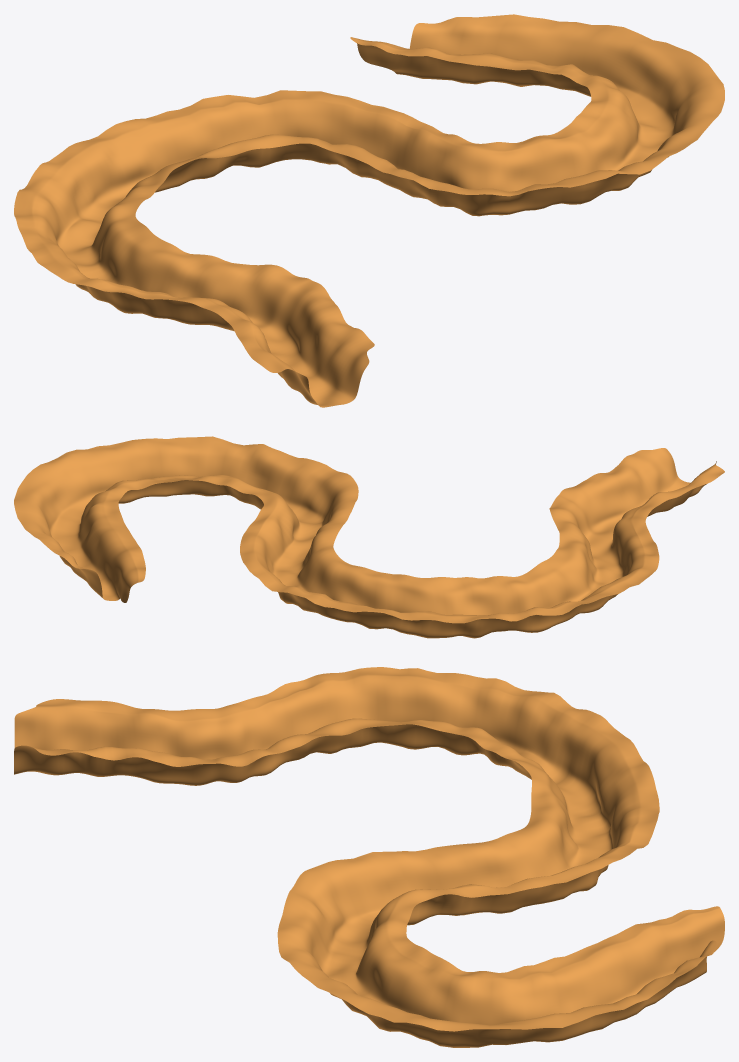
Rendered from trench_end.glb.
3 renders of one model, top to bottom at view 1: azimuth 30°, elevation 25°; view 2: azimuth 150°, elevation 25°; view 3: azimuth 270°, elevation 25°, orthographic. The views are drawn at different scales.
Parts seen in each view (by area): view 1: trench2-col; view 2: trench2-col; view 3: trench2-col.
Part boxes in pixels (x1,y1,x2,y2): trench2-col: [14, 14, 724, 407]; trench2-col: [14, 436, 724, 638]; trench2-col: [14, 667, 724, 1047].
Size of the model in its own units: 2973 by 191 by 2464.
